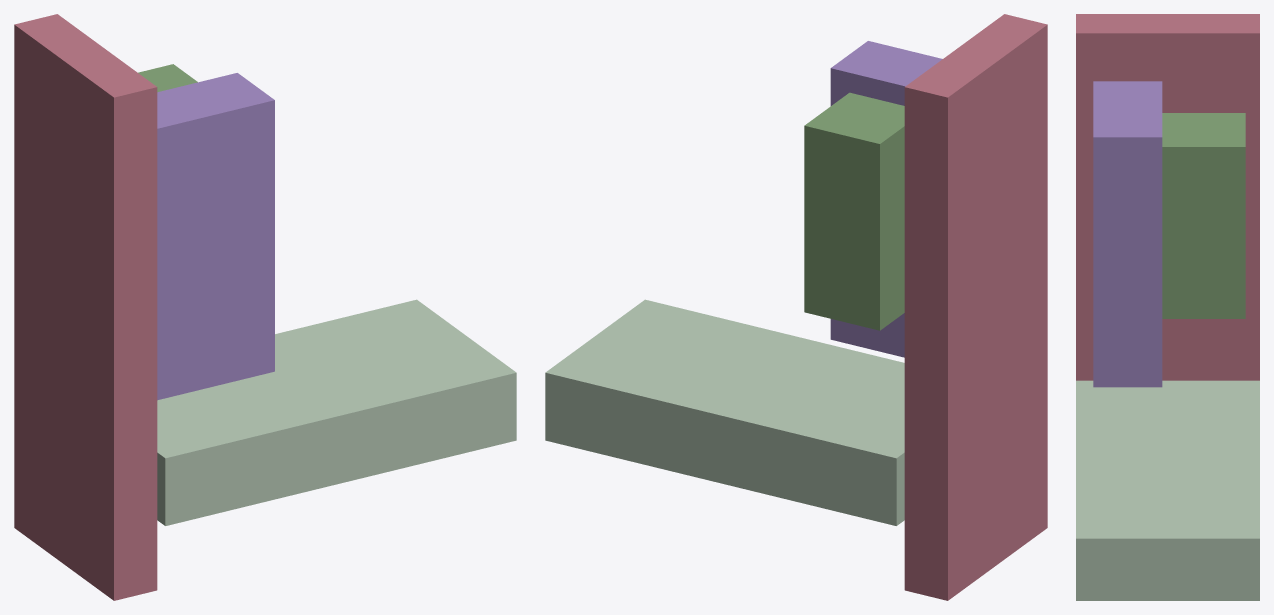
3 views of the same model, side by side, from view 1: azimuth 30°, elevation 25°; view 2: azimuth 150°, elevation 25°; view 3: azimuth 270°, elevation 25° (orthographic). The views are drawn at different scales.
Parts seen in each view (by area): view 1: world; view 2: world; view 3: world.
Part boxes in pixels (x1=…): world: x1=14, y1=14, x2=516, y2=600; world: x1=545, y1=14, x2=1047, y2=600; world: x1=1076, y1=14, x2=1259, y2=600.
Bounding box in the file's own units: 7.45 × 8.9 × 3.2.
